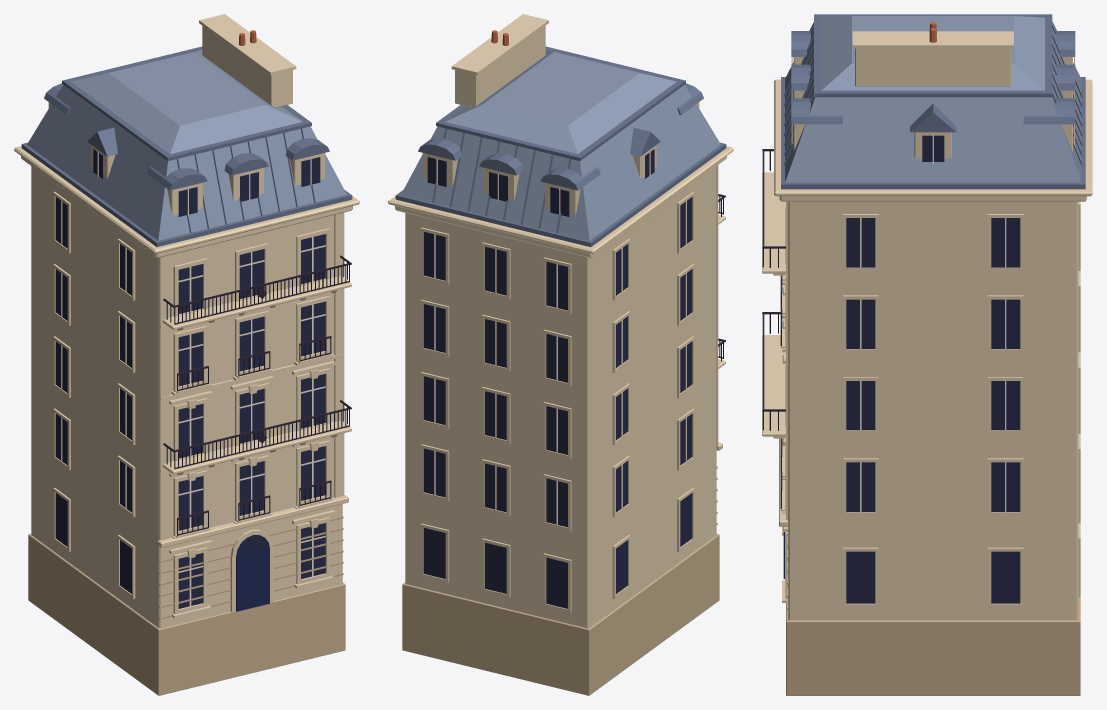
The model's file is paris_narrow.glb.
The picture shows the model from 3 angles, left to right: view 1: azimuth 30°, elevation 25°; view 2: azimuth 150°, elevation 25°; view 3: azimuth 270°, elevation 25°; orthographic projection. The views are drawn at different scales.
Visible parts, largest first — view 1: paris_narrow; view 2: paris_narrow; view 3: paris_narrow.
Part boxes in pixels (x1,y1,x2,y2): paris_narrow: [14, 14, 359, 695]; paris_narrow: [388, 14, 733, 695]; paris_narrow: [762, 14, 1092, 695].
Bounding box in the file's own units: 9.25 × 24.8 × 11.4.
